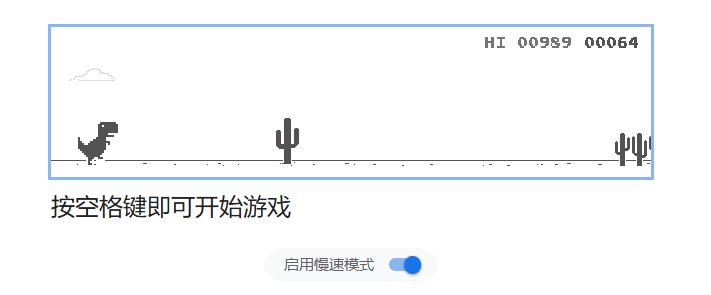cactus: (613, 131, 652, 167), (275, 117, 301, 166)
dino: (75, 120, 119, 166)
